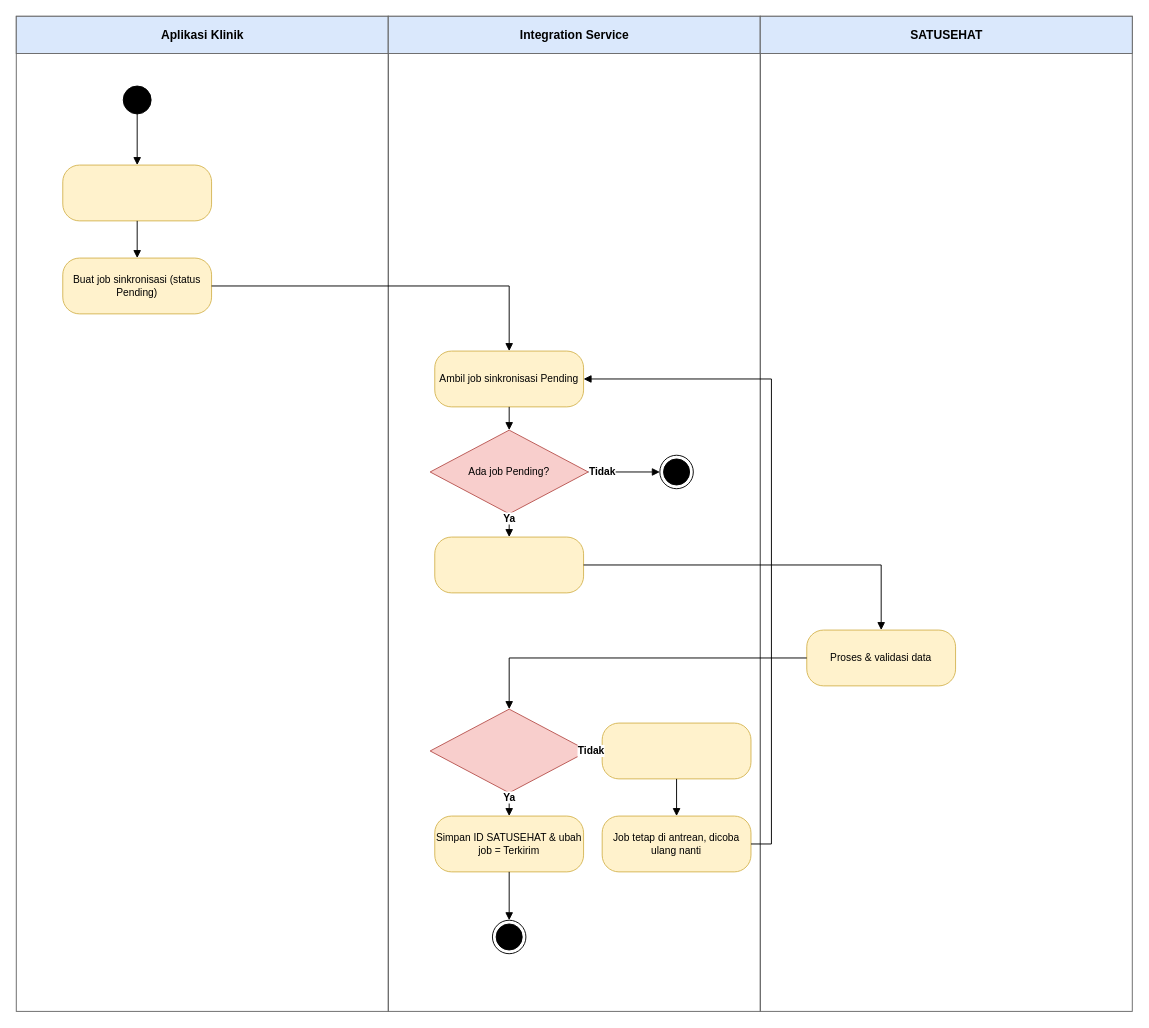
Some shapes in this 1149 by 1028 pixel diagram are drawn without their labels. Each missing label, with the centre of its shape:
"Autentikasi & kirim data (FHIR)" goes at [509,564].
"Respons sukses?" goes at [508,750].
"Simpan data klinik (alur utama tetap berjalan)" goes at [137,192].
"Ubah job = Gagal (retry + 1)" goes at [676,750].
